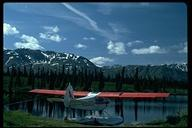cloud: (5, 19, 72, 46), (107, 37, 165, 57)
mountain: (5, 43, 187, 76)
plane: (53, 81, 125, 125)
sky: (6, 6, 186, 48)
water: (119, 101, 181, 112)
